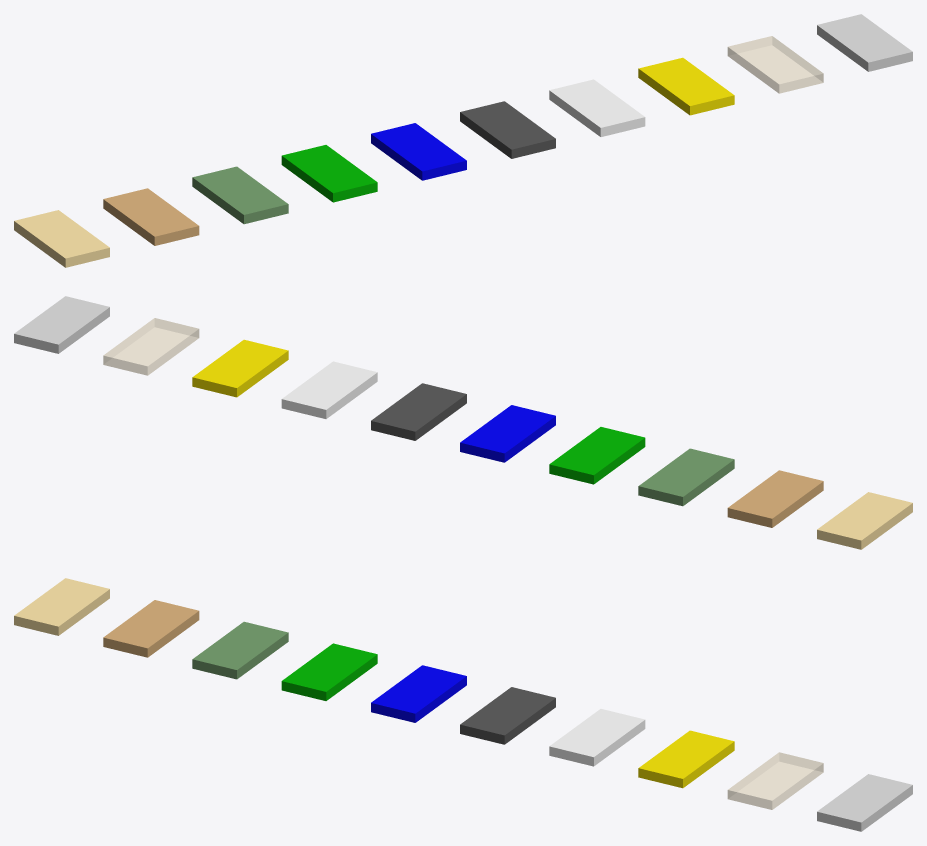
The model's file is board.glb.
The picture shows the model from 3 angles, top to bottom: view 1: azimuth 30°, elevation 25°; view 2: azimuth 150°, elevation 25°; view 3: azimuth 330°, elevation 25°; orthographic projection.
Parts seen in each view (by area): view 1: Substrate_Layer_2, Substrate_Layer_7, Substrate_Layer_1, Substrate_Layer_8, Substrate_Layer_3, Substrate_Layer_6, Substrate_Layer_0, Substrate_Layer_4, Substrate_Layer_5, Substrate_Layer_9; view 2: Substrate_Layer_2, Substrate_Layer_7, Substrate_Layer_1, Substrate_Layer_8, Substrate_Layer_3, Substrate_Layer_6, Substrate_Layer_0, Substrate_Layer_4, Substrate_Layer_5, Substrate_Layer_9; view 3: Substrate_Layer_2, Substrate_Layer_7, Substrate_Layer_1, Substrate_Layer_8, Substrate_Layer_3, Substrate_Layer_6, Substrate_Layer_0, Substrate_Layer_4, Substrate_Layer_5, Substrate_Layer_9.
Boxes of the visible parts, x1=… form: Substrate_Layer_2: x1=192, y1=166, x2=288, y2=224; Substrate_Layer_7: x1=638, y1=57, x2=734, y2=115; Substrate_Layer_1: x1=103, y1=188, x2=199, y2=245; Substrate_Layer_8: x1=727, y1=36, x2=823, y2=93; Substrate_Layer_3: x1=281, y1=145, x2=377, y2=202; Substrate_Layer_6: x1=549, y1=79, x2=645, y2=136; Substrate_Layer_0: x1=14, y1=210, x2=109, y2=267; Substrate_Layer_4: x1=371, y1=123, x2=466, y2=180; Substrate_Layer_5: x1=460, y1=101, x2=555, y2=158; Substrate_Layer_9: x1=817, y1=14, x2=912, y2=71; Substrate_Layer_2: x1=638, y1=448, x2=734, y2=506; Substrate_Layer_7: x1=192, y1=339, x2=288, y2=397; Substrate_Layer_1: x1=727, y1=470, x2=823, y2=527; Substrate_Layer_8: x1=103, y1=318, x2=199, y2=375; Substrate_Layer_3: x1=549, y1=427, x2=645, y2=484; Substrate_Layer_6: x1=281, y1=361, x2=377, y2=418; Substrate_Layer_0: x1=817, y1=492, x2=912, y2=549; Substrate_Layer_4: x1=460, y1=405, x2=555, y2=462; Substrate_Layer_5: x1=371, y1=383, x2=466, y2=440; Substrate_Layer_9: x1=14, y1=296, x2=109, y2=353; Substrate_Layer_2: x1=192, y1=621, x2=288, y2=679; Substrate_Layer_7: x1=638, y1=730, x2=734, y2=788; Substrate_Layer_1: x1=103, y1=600, x2=199, y2=657; Substrate_Layer_8: x1=727, y1=752, x2=823, y2=809; Substrate_Layer_3: x1=281, y1=643, x2=377, y2=700; Substrate_Layer_6: x1=549, y1=709, x2=645, y2=766; Substrate_Layer_0: x1=14, y1=578, x2=109, y2=635; Substrate_Layer_4: x1=371, y1=665, x2=466, y2=722; Substrate_Layer_5: x1=460, y1=687, x2=555, y2=744; Substrate_Layer_9: x1=817, y1=774, x2=912, y2=831.
Size of the model in its own units: 0.095 by 0.001 by 0.01.
